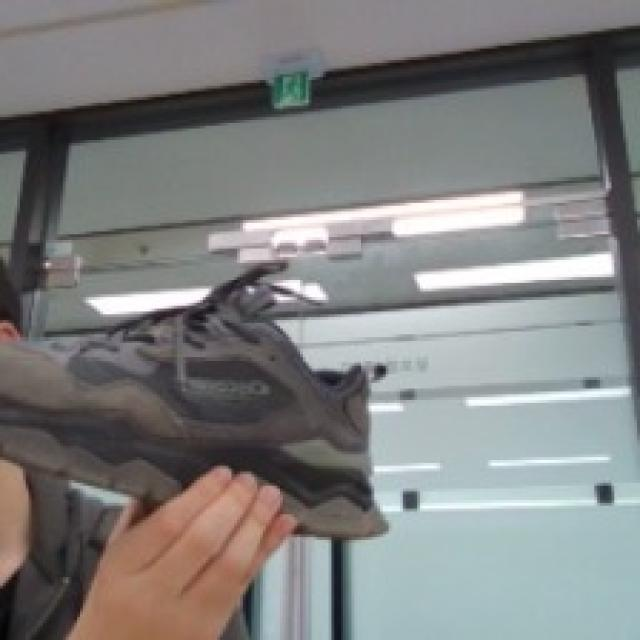shoes: (0, 239, 435, 566)
